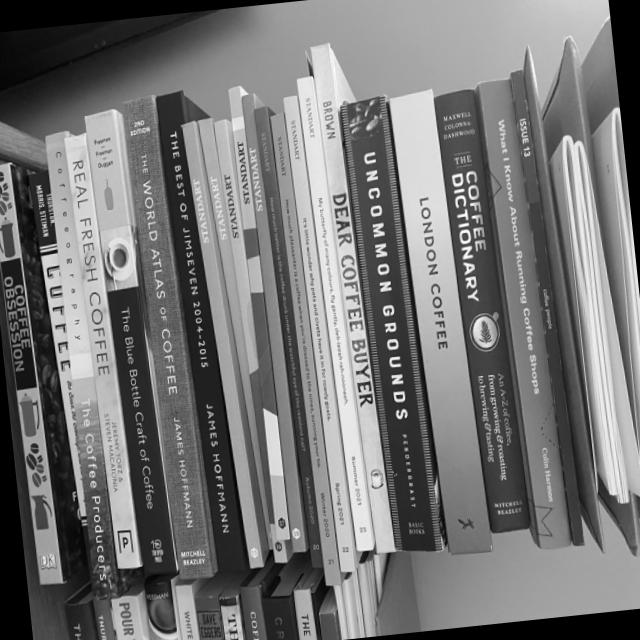book: (335, 95, 446, 556), (115, 94, 218, 580), (386, 90, 492, 557), (154, 88, 253, 573), (471, 78, 572, 552), (309, 41, 401, 554), (83, 108, 177, 576), (432, 87, 530, 534), (176, 121, 271, 568), (274, 94, 362, 573), (291, 76, 375, 551), (261, 113, 345, 586), (40, 130, 120, 599), (0, 159, 88, 585), (508, 69, 585, 547), (61, 133, 141, 570), (252, 105, 325, 568), (196, 117, 272, 545), (240, 92, 308, 553), (226, 85, 292, 541), (212, 118, 277, 528), (27, 171, 87, 524), (268, 526, 293, 563)
